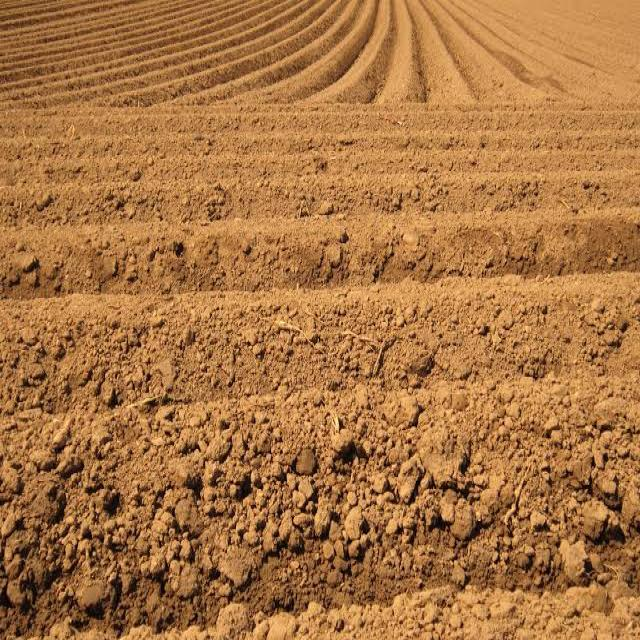suelo_seco: (150, 134, 248, 475)
